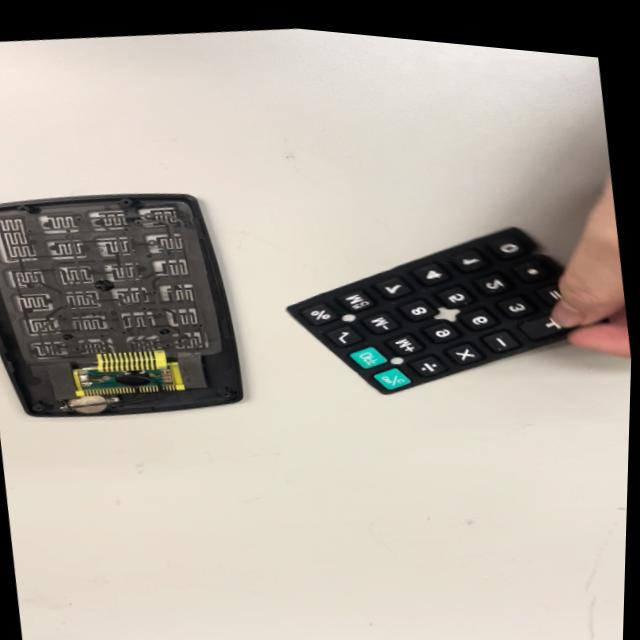front_panel: (0, 165, 255, 443)
number_pad: (265, 185, 624, 441)
